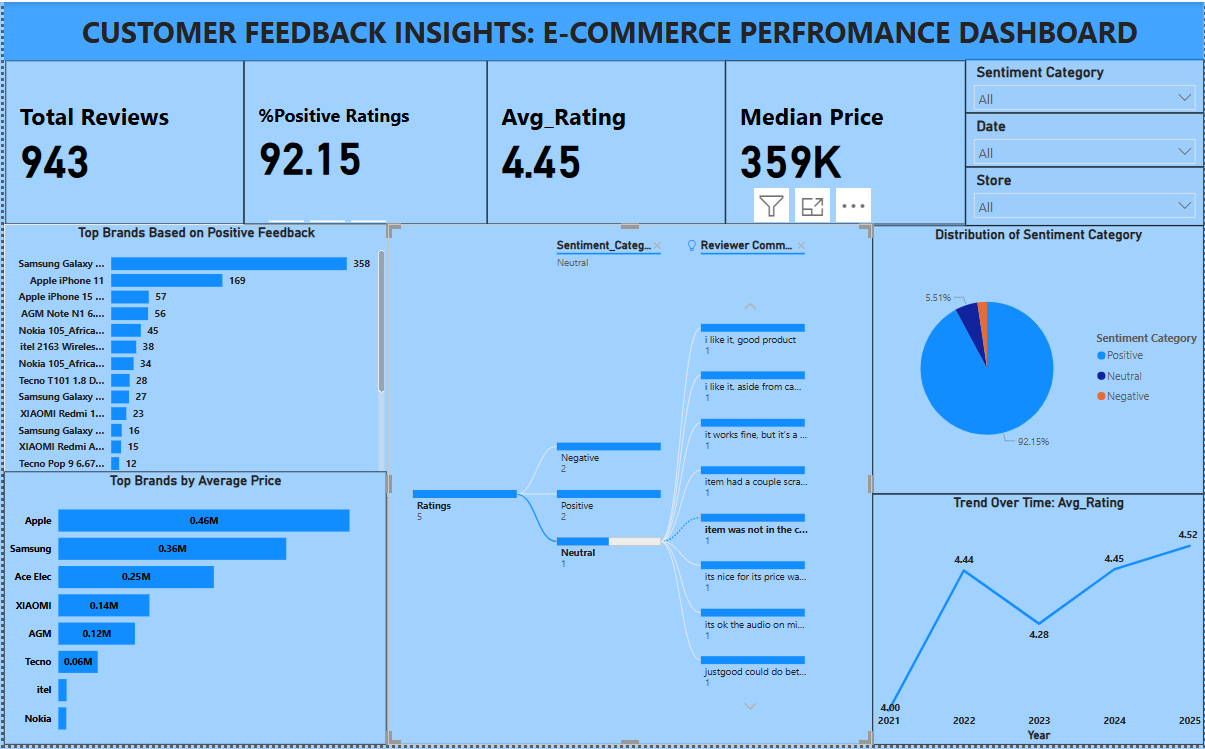

The dashboard page shown, as its layout file describes it:
{"tool":"powerbi","page":{"name":"Customer Feedback Overview","canvas":[1500,928],"ordinal":0},"visuals":[{"type":"cardVisual","fields":{"Data":["combined_scrapped_reviews.Total_Reviews"]},"box":[1.9,73.1,298.1,204.3],"z":0},{"type":"cardVisual","fields":{"Data":["combined_scrapped_reviews.Avg_Rating"]},"box":[603.7,73.1,298.1,204.3],"z":1000},{"type":"lineChart","title":"Trend Over Time: Avg_Rating","fields":{"Category":["combined_scrapped_reviews.Review Date.Variation.Date Hierarchy.Year","combined_scrapped_reviews.Review Date.Variation.Date Hierarchy.Quarter","combined_scrapped_reviews.Review Date.Variation.Date Hierarchy.Month","combined_scrapped_reviews.Review Date.Variation.Date Hierarchy.Day"],"Y":["combined_scrapped_reviews.Avg_Rating"]},"box":[1085.5,614.9,414.3,313.1],"z":2000},{"type":"barChart","title":"Top Brands Based on Positive Feedback","fields":{"Category":["combined_scrapped_reviews.Product Name.1"],"Y":["combined_scrapped_reviews.Total_Reviews"]},"box":[0,277.5,479.9,341.2],"z":3000},{"type":"cardVisual","fields":{"Data":["combined_scrapped_reviews.%Positive Feedback"]},"box":[300,73.1,303.7,204.3],"z":4000},{"type":"slicer","fields":{"Values":["combined_scrapped_reviews.Sentiment_Category"]},"box":[1201.7,71.2,298.1,67.5],"z":5000},{"type":"shape","box":[0,0,1499.4,73.3],"z":6000},{"type":"cardVisual","fields":{"Data":["Median(combined_scrapped_reviews.Price)"]},"box":[901.8,73.1,300,204.3],"z":7000},{"type":"slicer","fields":{"Values":["combined_scrapped_reviews.Review Date.Variation.Date Hierarchy.Year","combined_scrapped_reviews.Review Date.Variation.Date Hierarchy.Quarter","combined_scrapped_reviews.Review Date.Variation.Date Hierarchy.Month","combined_scrapped_reviews.Review Date.Variation.Date Hierarchy.Day"]},"box":[1201.7,138.7,298.1,67.5],"z":8000},{"type":"clusteredBarChart","title":"Top Brands by Average Price","fields":{"Category":["combined_scrapped_reviews.Brand"],"Y":["Avg(combined_scrapped_reviews.Price)"]},"box":[0,586.8,478.1,341.2],"z":9000},{"type":"pieChart","title":"Distribution of Sentiment Category","fields":{"Y":["CountNonNull(combined_scrapped_reviews.Sentiment_Category)"],"Category":["combined_scrapped_reviews.Sentiment_Category"]},"box":[1085.5,279.3,414.3,335.6],"z":10000},{"type":"slicer","fields":{"Values":["combined_scrapped_reviews.Store"]},"box":[1201.7,206.2,298.1,73.1],"z":11000},{"type":"decompositionTreeVisual","fields":{"ExplainBy":["combined_scrapped_reviews.Sentiment_Category","combined_scrapped_reviews.Reviewer Comment"],"Analyze":["Count(combined_scrapped_reviews.Rating)"]},"box":[479.9,277.5,605.5,650.5],"z":12000}]}

Visuals, with their boxes in screenshot pixels (x1, y1, x2, y2), scaled from the page's 1500x928 canvas onto the 1205x749 screenshot:
cardVisual - combined_scrapped_reviews.Total_Reviews: x1=2 y1=59 x2=241 y2=224
cardVisual - combined_scrapped_reviews.Avg_Rating: x1=485 y1=59 x2=724 y2=224
"Trend Over Time: Avg_Rating" lineChart: x1=872 y1=496 x2=1204 y2=748
"Top Brands Based on Positive Feedback" barChart: x1=0 y1=224 x2=386 y2=499
cardVisual - combined_scrapped_reviews.%Positive Feedback: x1=241 y1=59 x2=485 y2=224
slicer - combined_scrapped_reviews.Sentiment_Category: x1=965 y1=57 x2=1204 y2=112
shape: x1=0 y1=0 x2=1204 y2=59
cardVisual - Median(combined_scrapped_reviews.Price): x1=724 y1=59 x2=965 y2=224
slicer - combined_scrapped_reviews.Review Date.Variation.Date Hierarchy.Year x combined_scrapped_reviews.Review Date.Variation.Date Hierarchy.Quarter: x1=965 y1=112 x2=1204 y2=166
"Top Brands by Average Price" clusteredBarChart: x1=0 y1=474 x2=384 y2=748
"Distribution of Sentiment Category" pieChart: x1=872 y1=225 x2=1204 y2=496
slicer - combined_scrapped_reviews.Store: x1=965 y1=166 x2=1204 y2=225
decompositionTreeVisual - combined_scrapped_reviews.Sentiment_Category x combined_scrapped_reviews.Reviewer Comment: x1=386 y1=224 x2=872 y2=748
